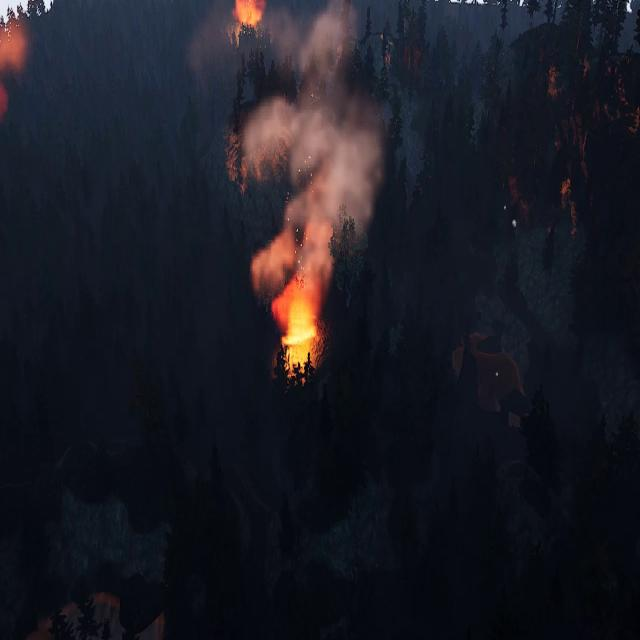fire: (272, 284, 320, 375), (232, 0, 265, 30)
smoke: (244, 0, 384, 295), (0, 3, 29, 121)
